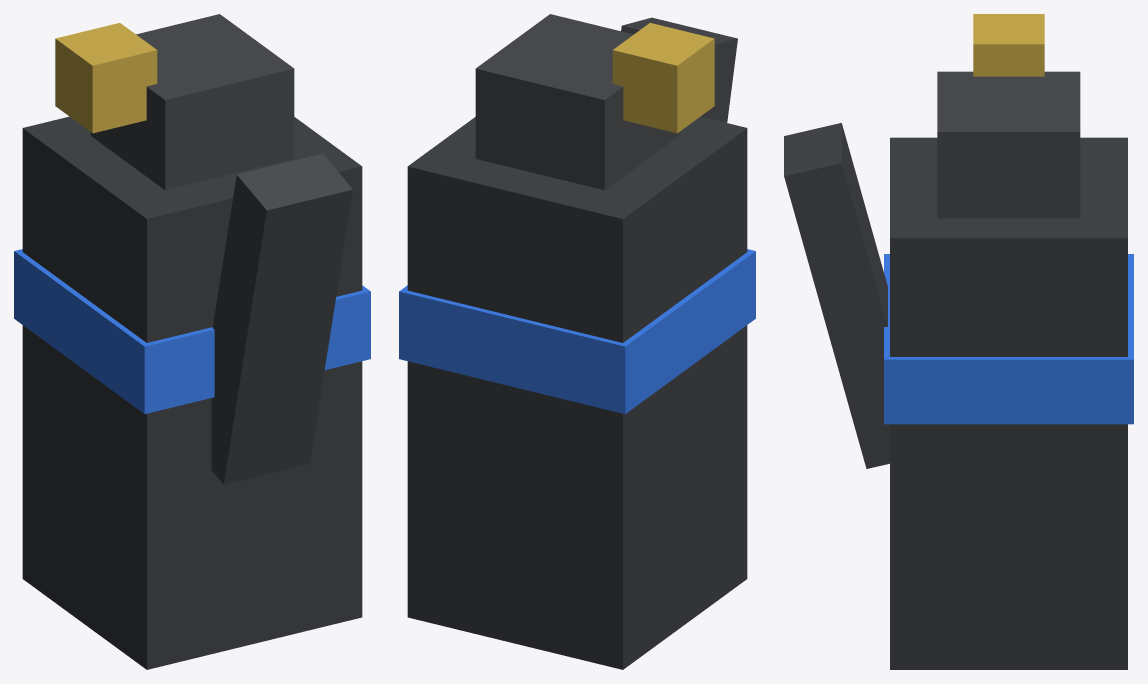
File: gun-flash.glb
3 renders of one model, left to right at view 1: azimuth 30°, elevation 25°; view 2: azimuth 150°, elevation 25°; view 3: azimuth 270°, elevation 25°, orthographic. The views are drawn at different scales.
Visible parts, largest first — view 1: flash; view 2: flash; view 3: flash.
Boxes of the visible parts, x1,y1,x2,y2 form: flash: [14, 14, 370, 669]; flash: [399, 14, 755, 669]; flash: [784, 14, 1133, 669].
Size of the model in its own units: 0.1075 by 0.255 by 0.1469.
